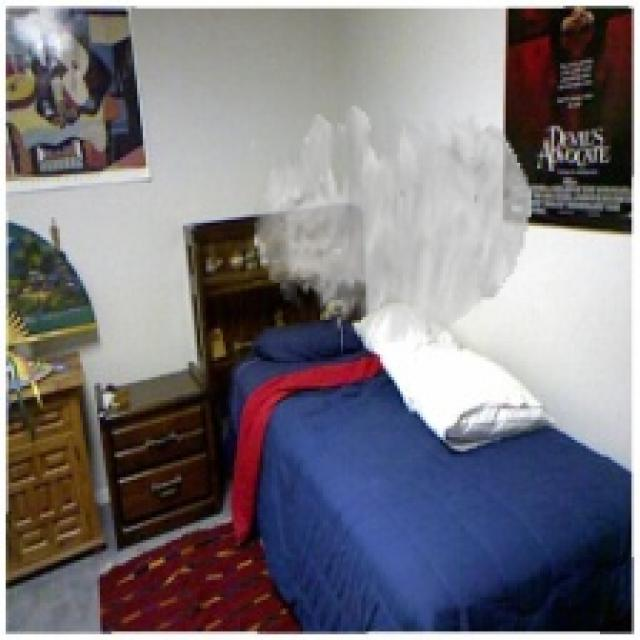smoke: (254, 106, 532, 343)
